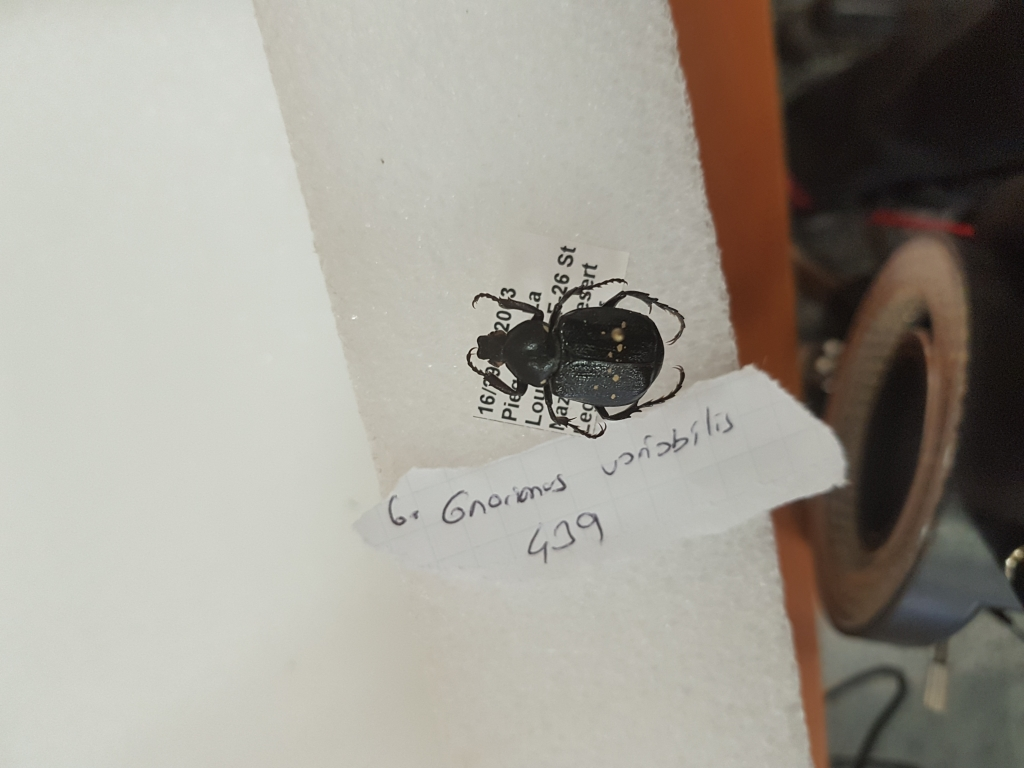Gnorimus_variabilis: (465, 277, 687, 443)
